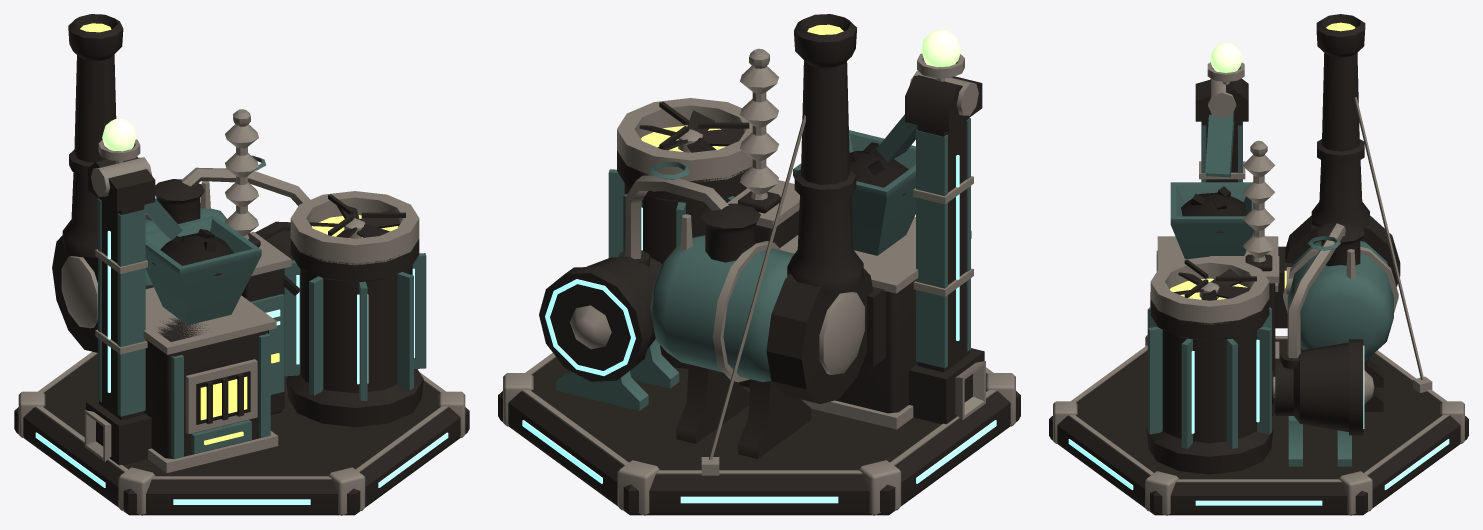
The model's file is fac_generator.glb.
The picture shows the model from 3 angles, left to right: view 1: azimuth 30°, elevation 25°; view 2: azimuth 150°, elevation 25°; view 3: azimuth 270°, elevation 25°; orthographic projection. The views are drawn at different scales.
Visible parts, largest first — view 1: body, base, lamp, spin; view 2: body, base, lamp, spin; view 3: body, base, lamp, spin.
Part boxes in pixels (x1,y1,x2,y2): body: (52, 14, 426, 472); base: (14, 351, 469, 515); lamp: (98, 118, 140, 160); spin: (309, 205, 400, 238); body: (539, 14, 985, 475); base: (498, 353, 1020, 515); lamp: (917, 29, 964, 78); spin: (639, 110, 744, 152); body: (1146, 14, 1432, 474); base: (1049, 335, 1468, 515); lamp: (1207, 43, 1244, 81); spin: (1173, 269, 1250, 300).
Size of the model in its own units: 1.8 by 2 by 2.05.
